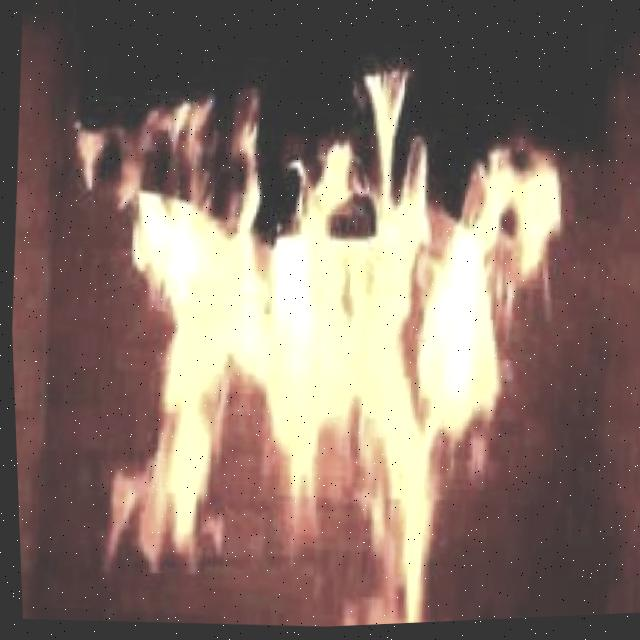Fire: (22, 26, 588, 639)
